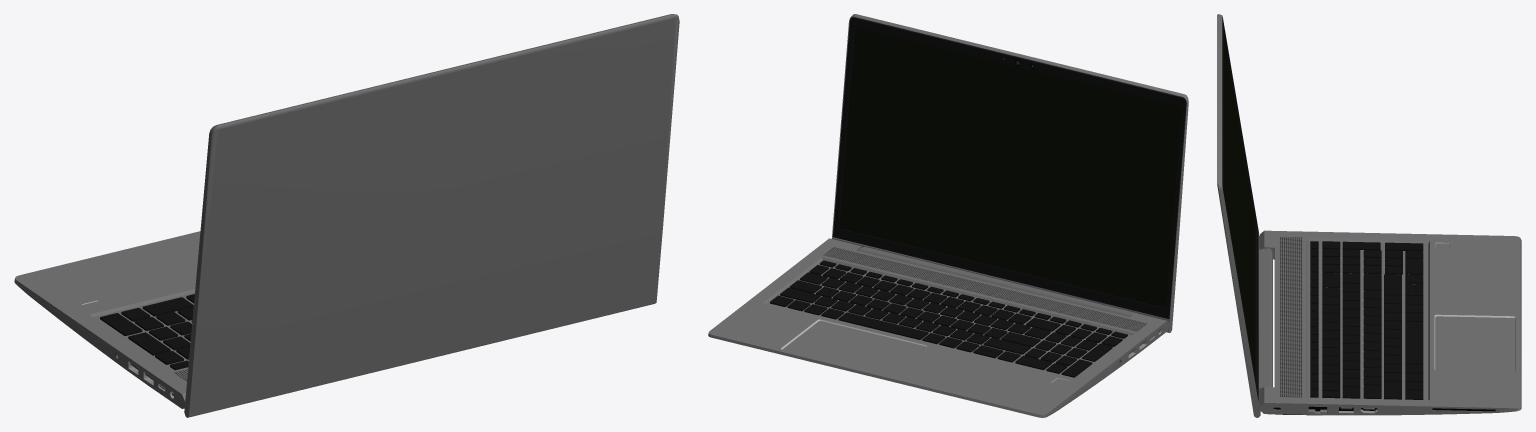
File: laptop.glb
3 views of the same model, side by side, from view 1: azimuth 30°, elevation 25°; view 2: azimuth 150°, elevation 25°; view 3: azimuth 270°, elevation 25° (orthographic). The views are drawn at different scales.
Parts seen in each view (by area): view 1: lid_3, body_0; view 2: lid_3, body_0; view 3: body_0, lid_3.
Part boxes in pixels (left/top/right/bottom): lid_3: left=184, top=14, right=679, bottom=417; body_0: left=14, top=231, right=200, bottom=408; lid_3: left=831, top=14, right=1188, bottom=332; body_0: left=708, top=238, right=1169, bottom=417; body_0: left=1259, top=230, right=1521, bottom=415; lid_3: left=1217, top=14, right=1272, bottom=417.
Size of the model in its own units: 0.9185 by 0.5895 by 0.6863.
14 materials, 1 textured.
